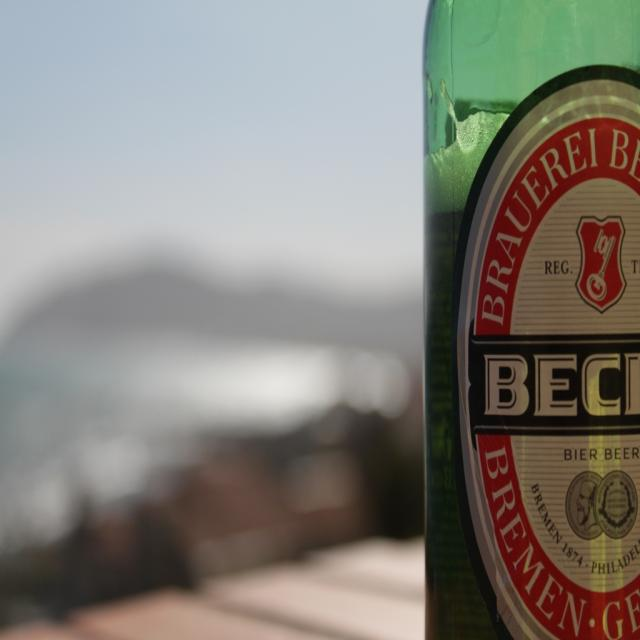becks: (455, 80, 640, 640)
